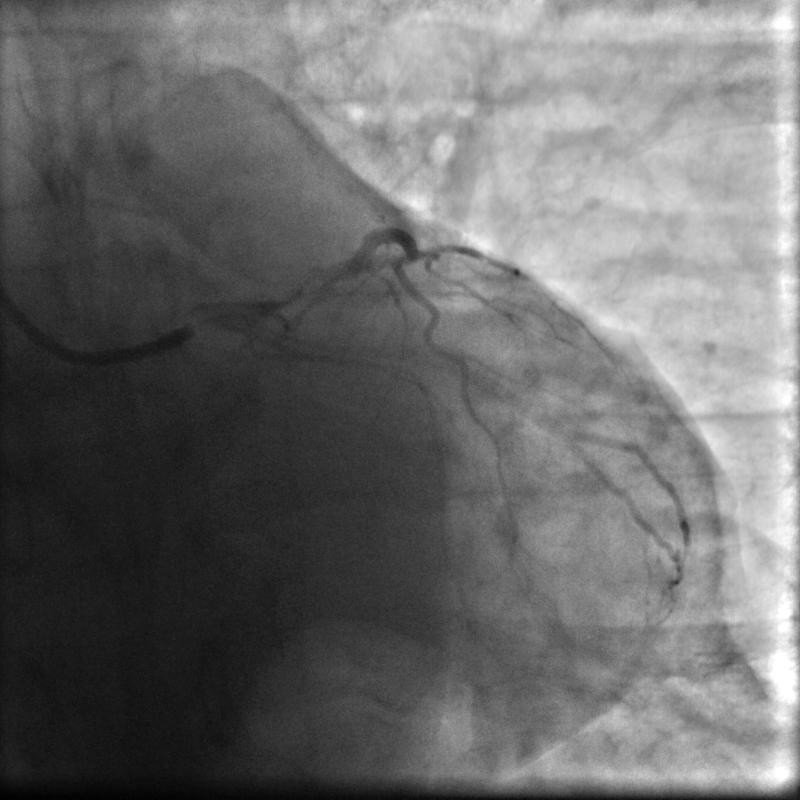Stenosis: (275, 265, 349, 307)
